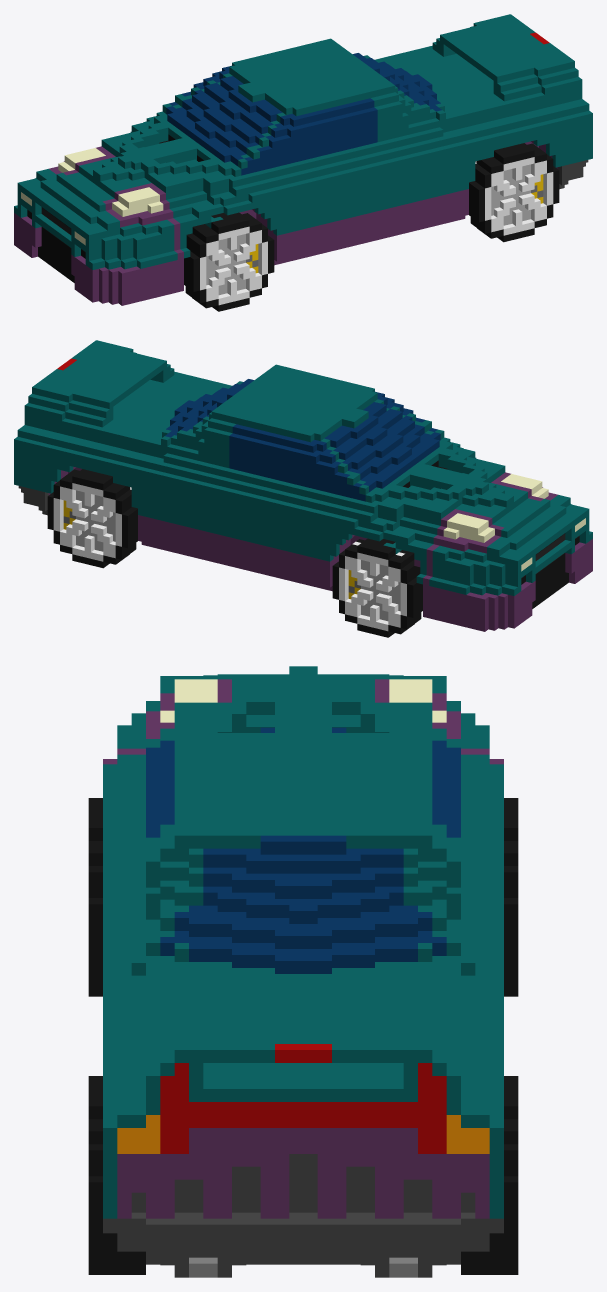
The model's file is boss_car.obj.
3 renders of one model, top to bottom at view 1: azimuth 30°, elevation 25°; view 2: azimuth 150°, elevation 25°; view 3: azimuth 270°, elevation 25°, orthographic. The views are drawn at different scales.
Visible parts, largest first — view 1: boss_car; view 2: boss_car; view 3: boss_car.
Part boxes in pixels (bbox=[...]): boss_car: bbox=[14, 14, 592, 311]; boss_car: bbox=[14, 340, 592, 637]; boss_car: bbox=[88, 666, 518, 1277].
Bounding box in the file's own units: 80 × 25 × 30.
Materials: 1 (1 with a texture image).
